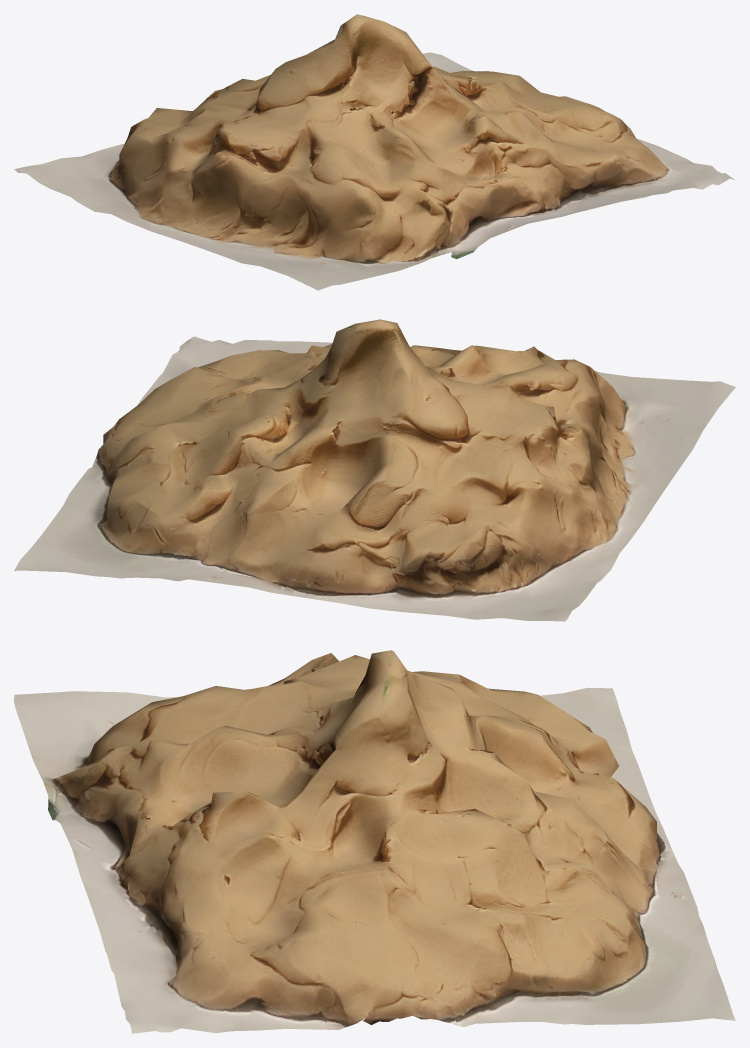
Rendered from GPGre_MamanLOD112.fbx.
The picture shows the model from 3 angles, top to bottom: view 1: azimuth 30°, elevation 25°; view 2: azimuth 150°, elevation 25°; view 3: azimuth 270°, elevation 25°; orthographic projection. The views are drawn at different scales.
Parts seen in each view (by area): view 1: Model; view 2: Model; view 3: Model.
Boxes of the visible parts, bbox=[...] form: Model: bbox=[14, 14, 734, 290]; Model: bbox=[14, 319, 735, 621]; Model: bbox=[14, 650, 735, 1033].
Bounding box in the file's own units: 2.35 × 0.7813 × 2.12.
